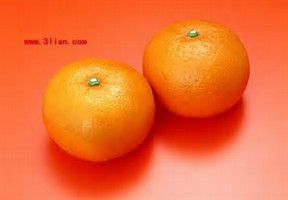orange: (40, 52, 156, 162), (141, 15, 254, 117)
